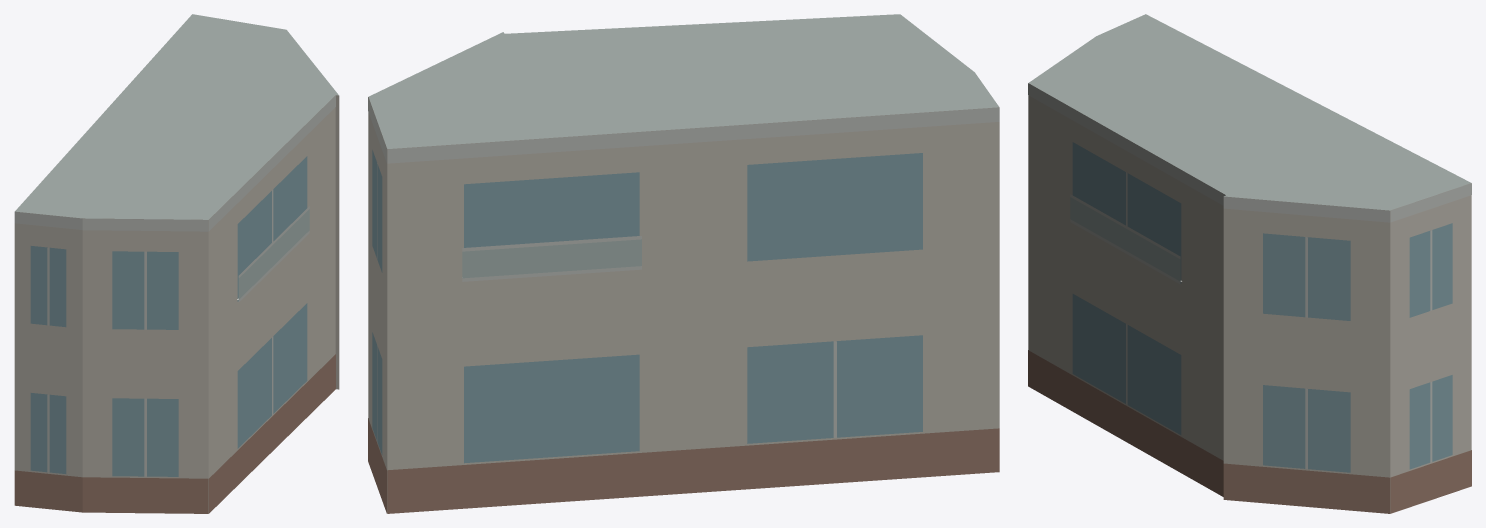
Rendered from survey-upis-32459728.glb.
3 renders of one model, left to right at view 1: azimuth 30°, elevation 25°; view 2: azimuth 150°, elevation 25°; view 3: azimuth 270°, elevation 25°, orthographic. The views are drawn at different scales.
Parts seen in each view (by area): view 1: survey-upis-32459728.tmp; view 2: survey-upis-32459728.tmp; view 3: survey-upis-32459728.tmp.
Boxes of the visible parts, left/top/right/bottom form: survey-upis-32459728.tmp: left=14, top=14, right=339, bottom=513; survey-upis-32459728.tmp: left=368, top=14, right=999, bottom=513; survey-upis-32459728.tmp: left=1028, top=14, right=1471, bottom=513.
Bounding box in the file's own units: 8.49 × 6.1 × 8.09.
